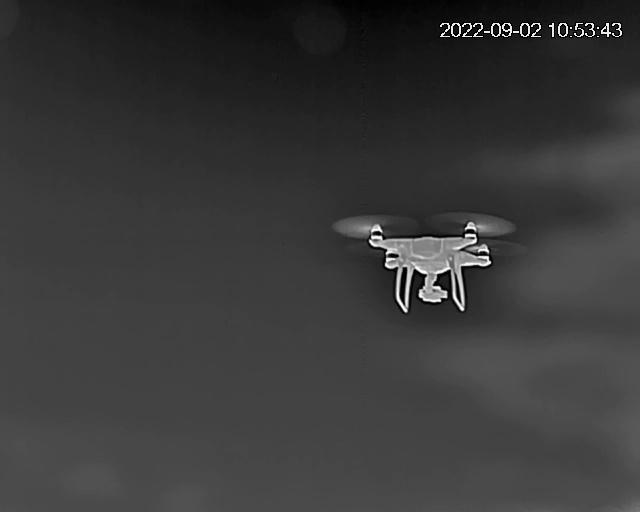DJI-Phantom: (336, 212, 527, 312)
